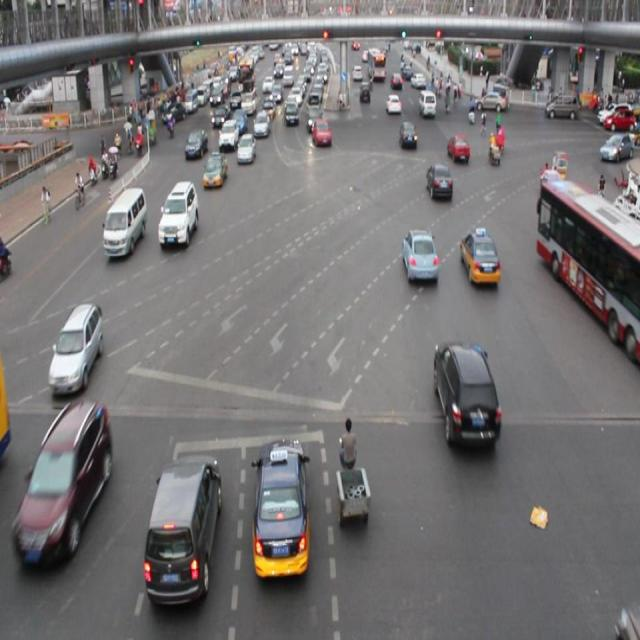car: (17, 401, 108, 567), (251, 438, 310, 580), (432, 338, 498, 452), (49, 302, 102, 392), (157, 180, 199, 248), (458, 226, 498, 286), (402, 226, 437, 284), (426, 162, 453, 202), (203, 150, 228, 190), (445, 130, 469, 163), (185, 128, 207, 160), (311, 117, 332, 148), (398, 118, 418, 150), (236, 132, 255, 164), (220, 116, 238, 148), (252, 109, 270, 139)
truck: (145, 454, 220, 602), (103, 186, 144, 257)
van: (538, 177, 640, 363)
